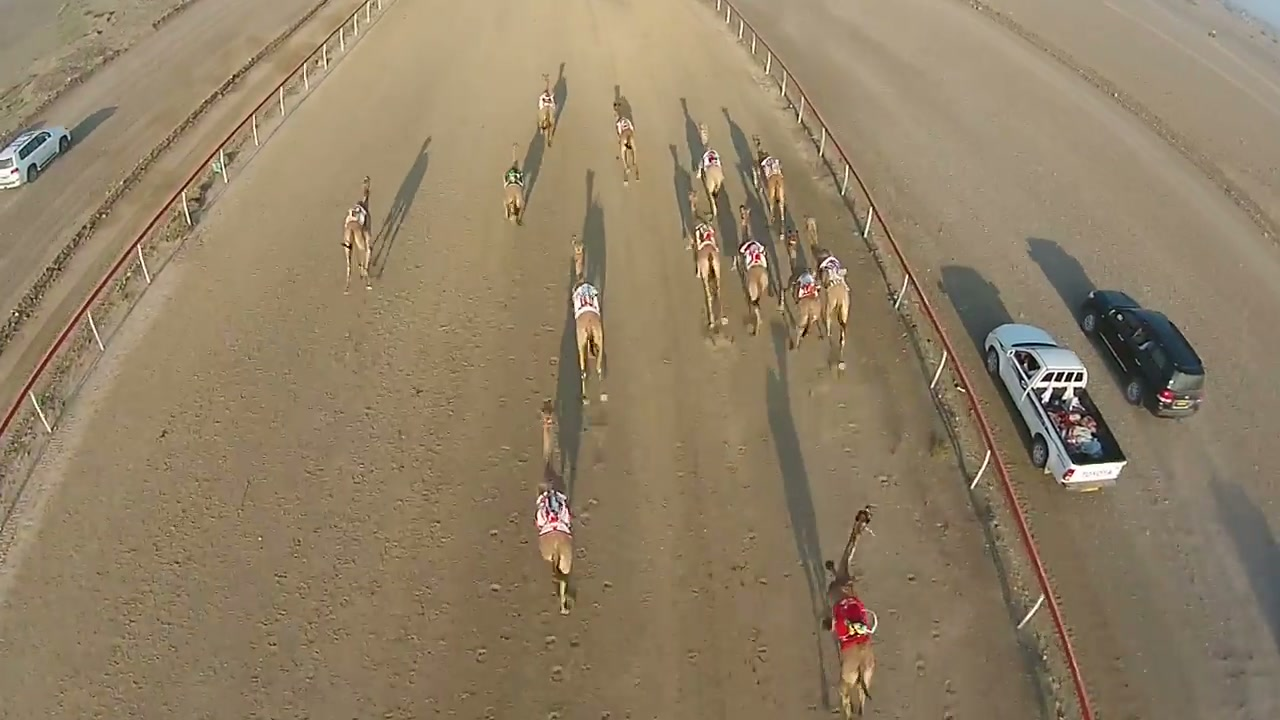animal_foot_print: (839, 386, 979, 717), (475, 424, 629, 709), (717, 457, 784, 688)
